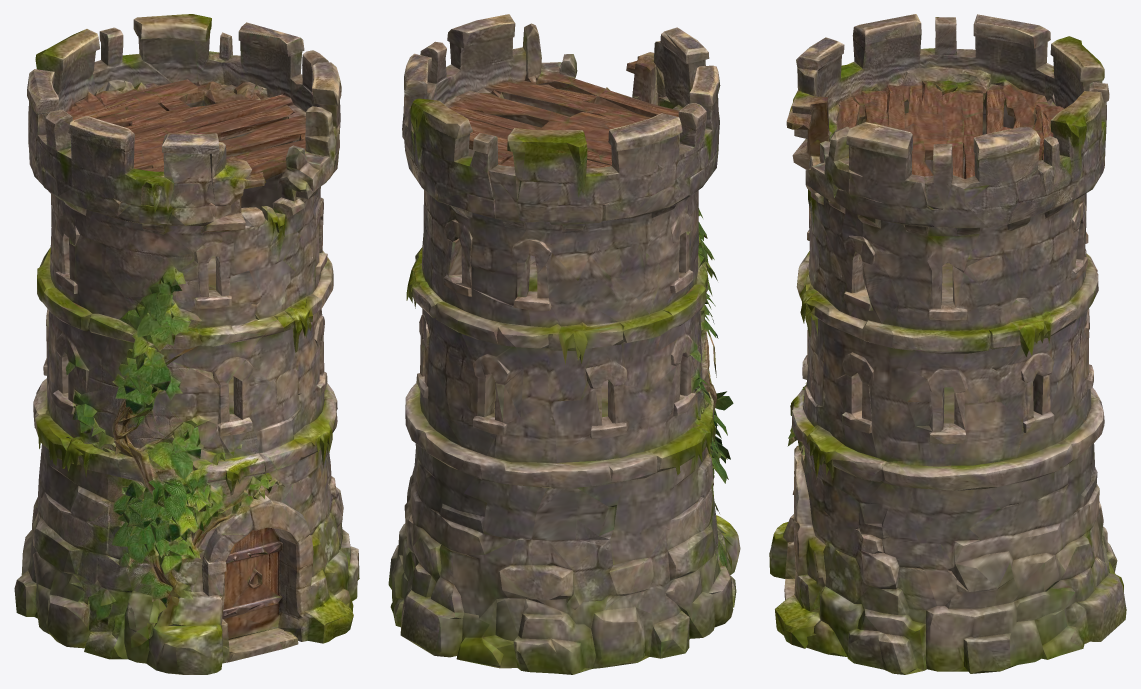
File: watchtower.glb
3 renders of one model, left to right at view 1: azimuth 30°, elevation 25°; view 2: azimuth 150°, elevation 25°; view 3: azimuth 270°, elevation 25°, orthographic.
Visible parts, largest first — view 1: Mesh_0; view 2: Mesh_0; view 3: Mesh_0.
Boxes of the visible parts, x1,y1,x2,y2 form: Mesh_0: (14, 14, 359, 674); Mesh_0: (388, 14, 740, 674); Mesh_0: (769, 14, 1126, 674).
Bounding box in the file's own units: 1.15 × 1.9 × 1.17.
Materials: 1 (1 with a texture image).
